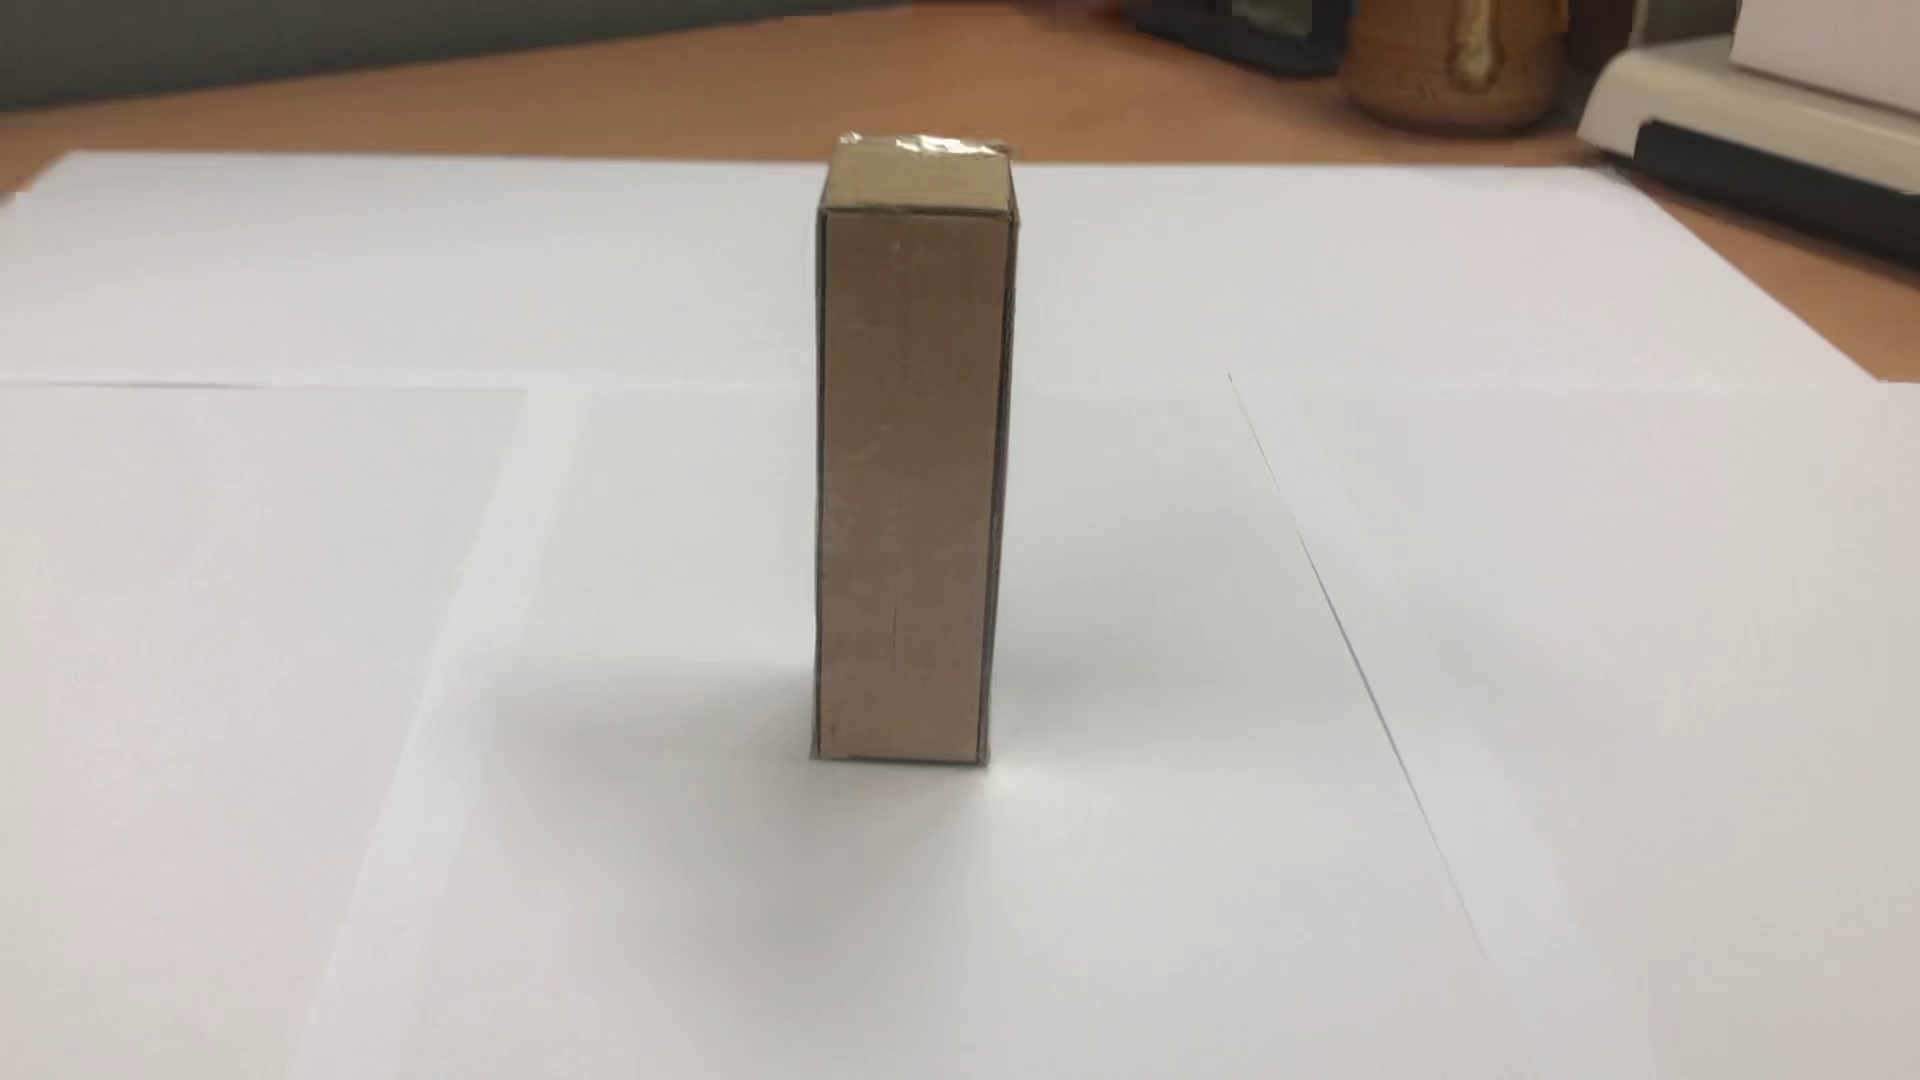box: (785, 109, 1034, 781)
